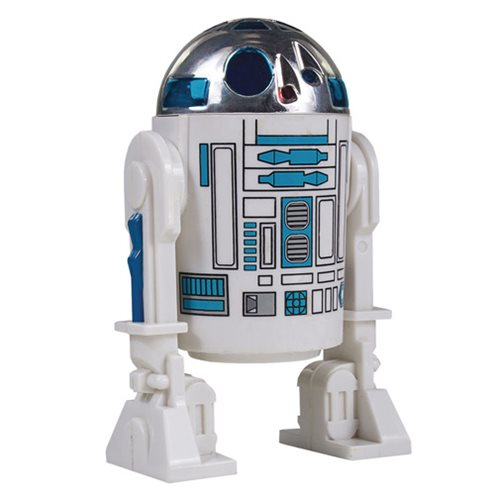r2d2: (114, 19, 412, 478)
